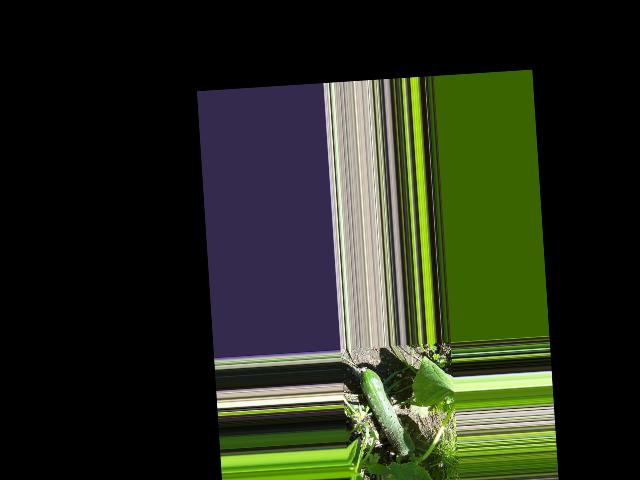cucumber: (358, 364, 415, 460)
